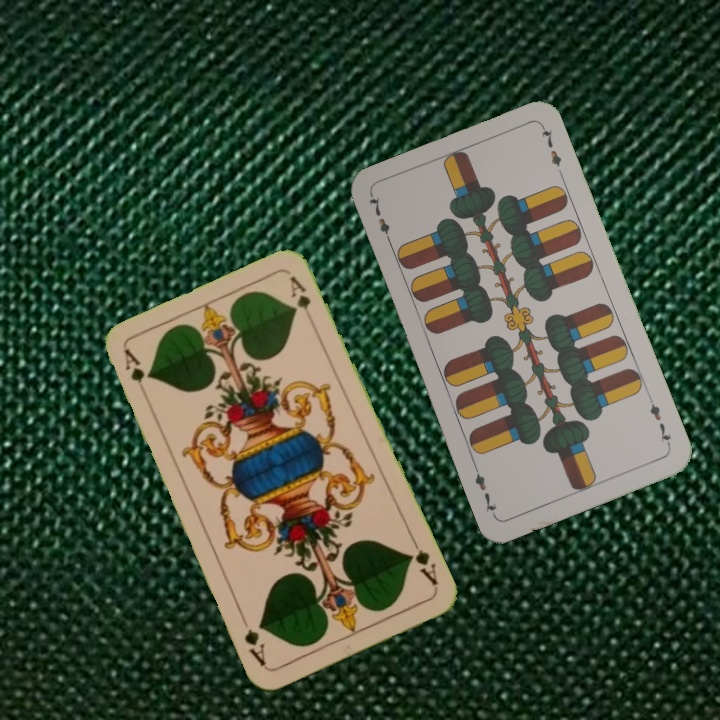E7: (365, 192, 395, 248), (645, 393, 674, 450)
GA: (404, 535, 441, 590), (120, 345, 148, 386)
